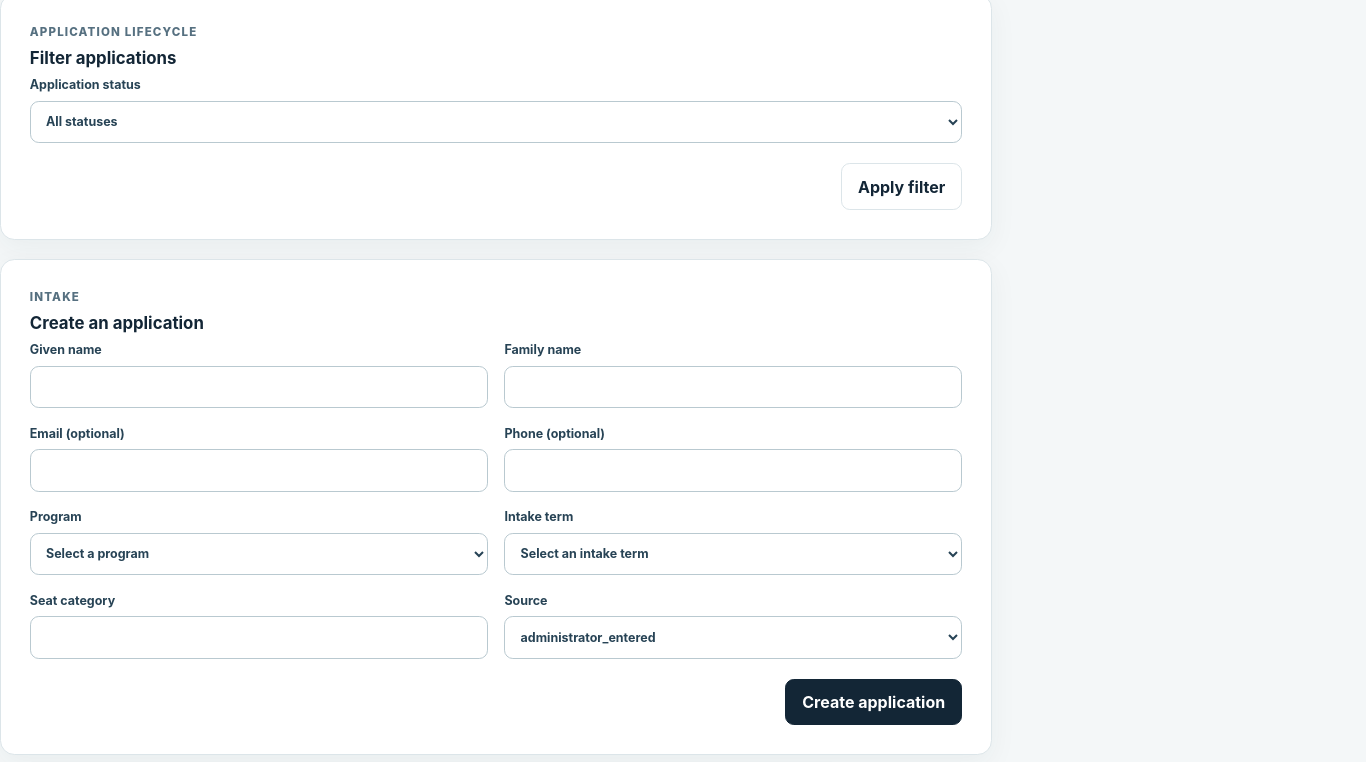
it: AdmissionsWorkflow › creates an administrator-entered application without echoing contacts
In the field labelled "Given name": {"x": 259, "y": 387} [30,366,488,408], type "Aida"
In the field labelled "Family name": {"x": 733, "y": 387} [504,366,962,408], type "Sadykova"
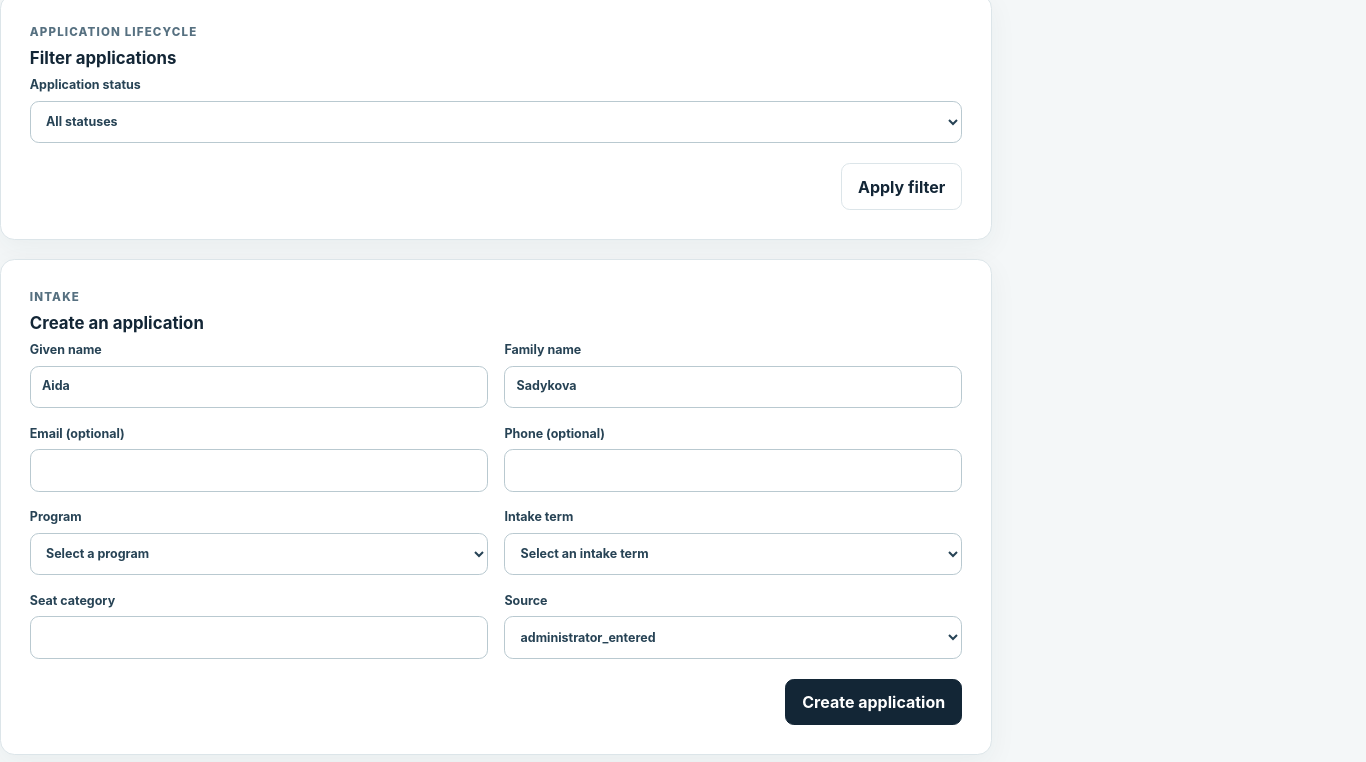
In the field labelled "Email (optional)": {"x": 259, "y": 470} [30,449,488,492], type "aida@example.test"
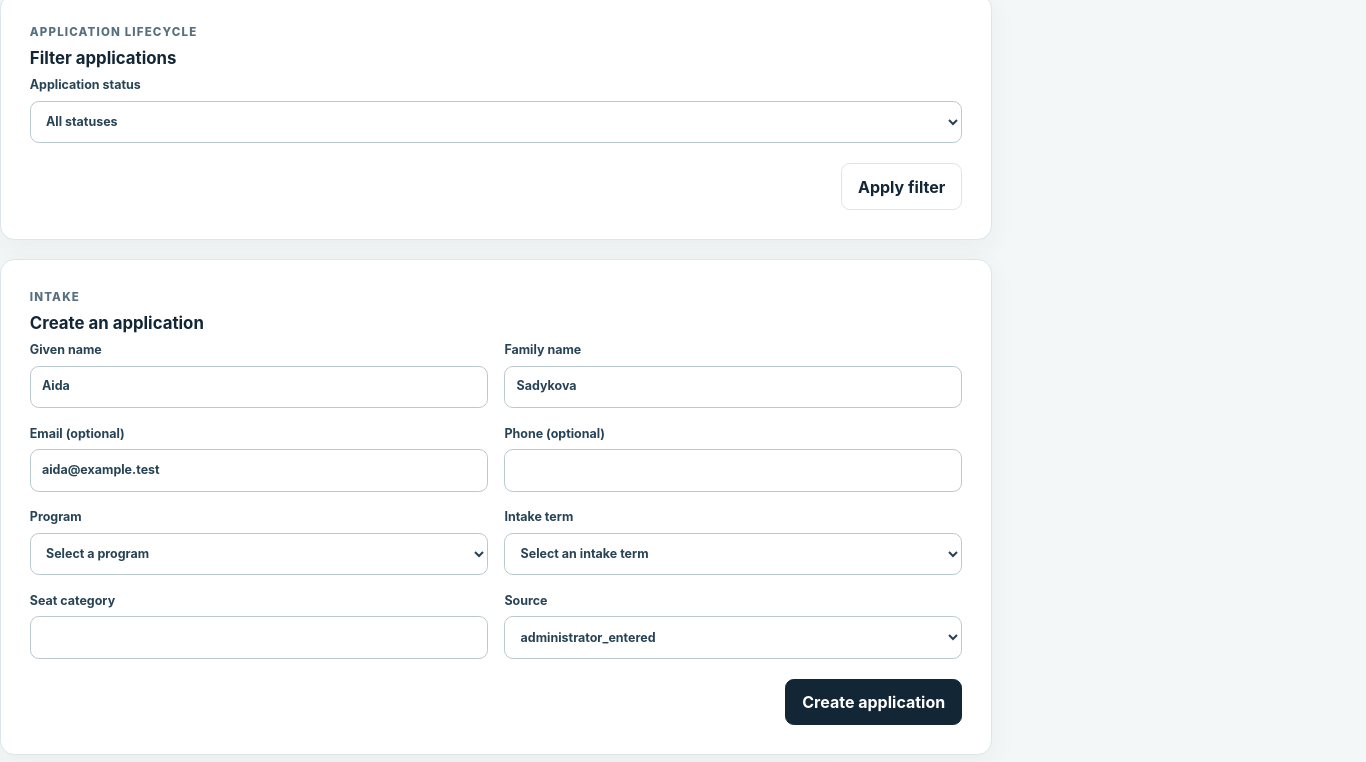
Select "Computer Science" in the dropdown labelled "Program": {"x": 259, "y": 554} [30,533,488,575]
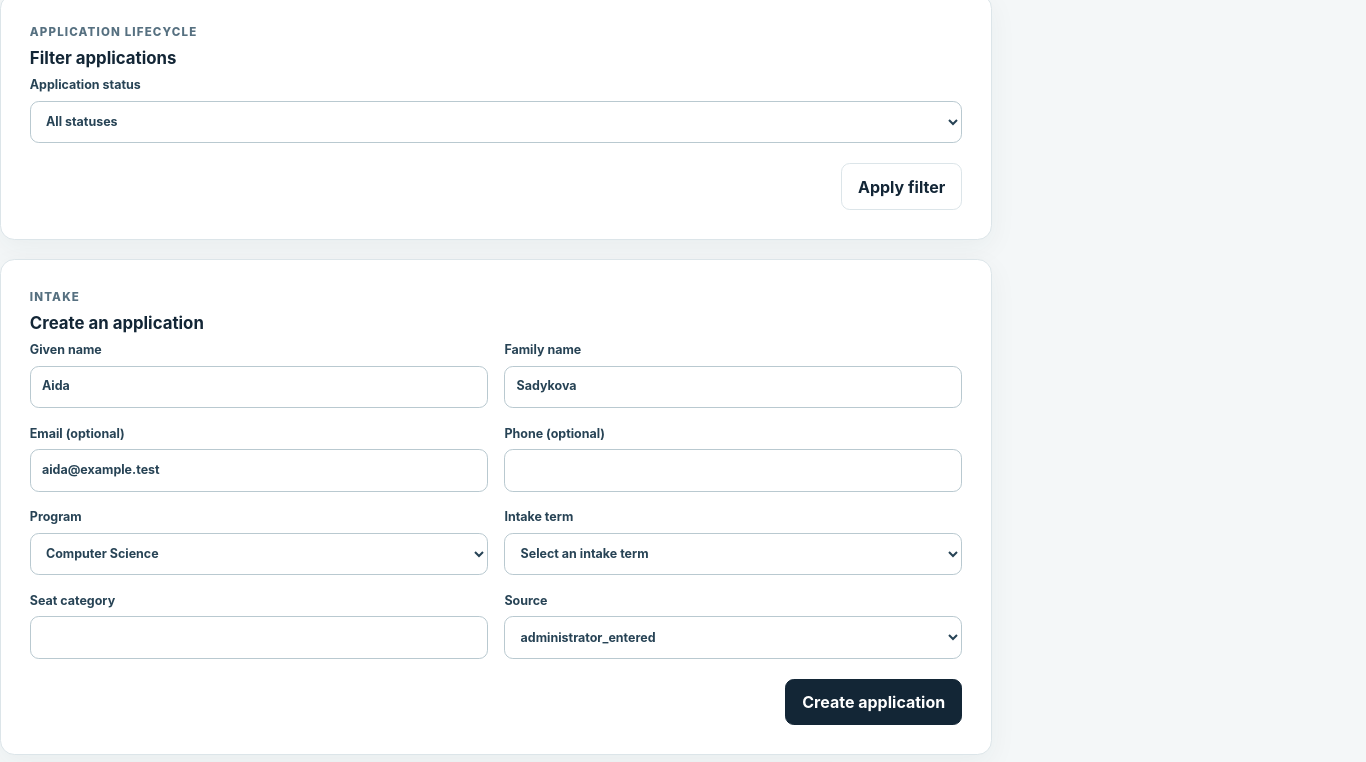
Select "Autumn 2026" in the dropdown labelled "Intake term": {"x": 733, "y": 554} [504,533,962,575]
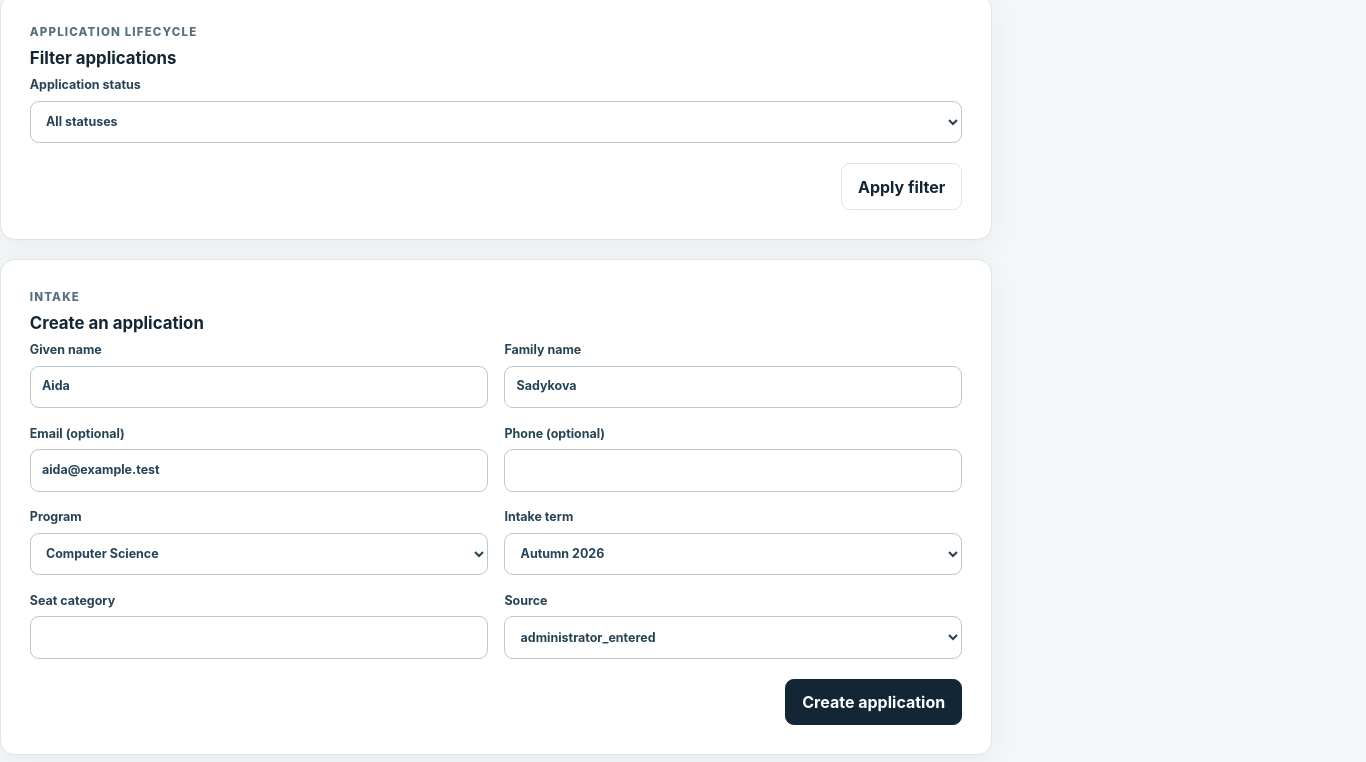
In the field labelled "Seat category": {"x": 259, "y": 637} [30,616,488,658], type "general"
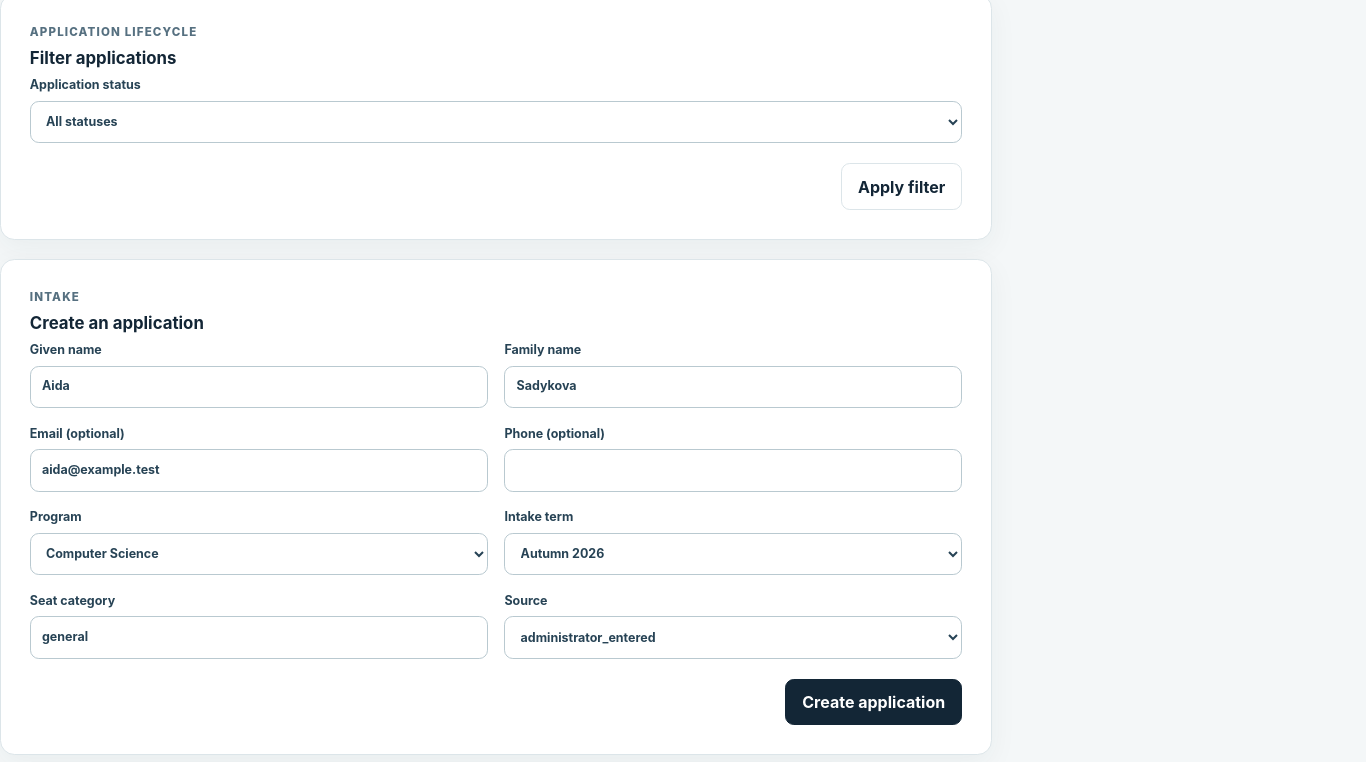
Click the button "Create application": {"x": 874, "y": 702} [785,678,962,725]
(page scrolled)
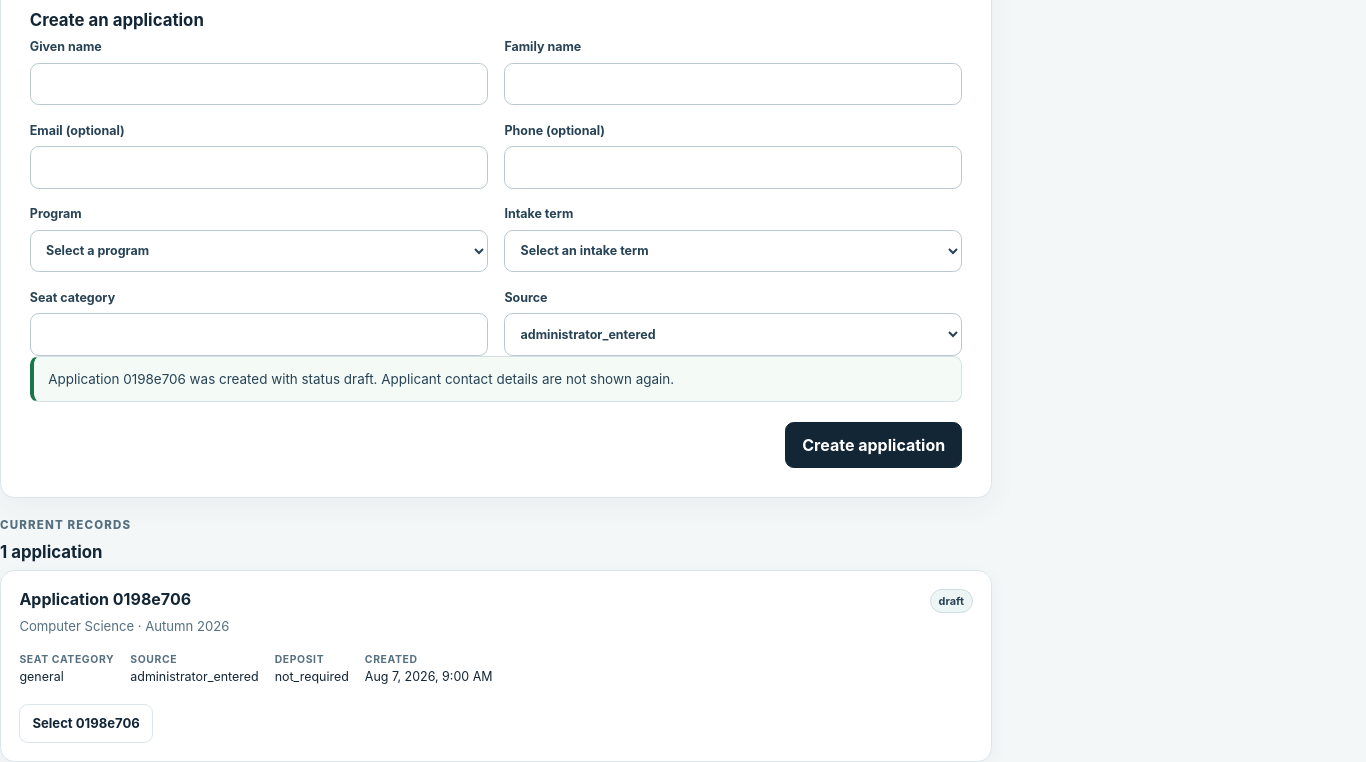
Expected: the text "aida@example.test" is not shown
Expected: the text "Application 0198e706 was created with status draft. Applicant contact details are not shown again." is shown, [48,370,674,386]
Expected: the heading "1 application" is shown, [0,542,102,562]
